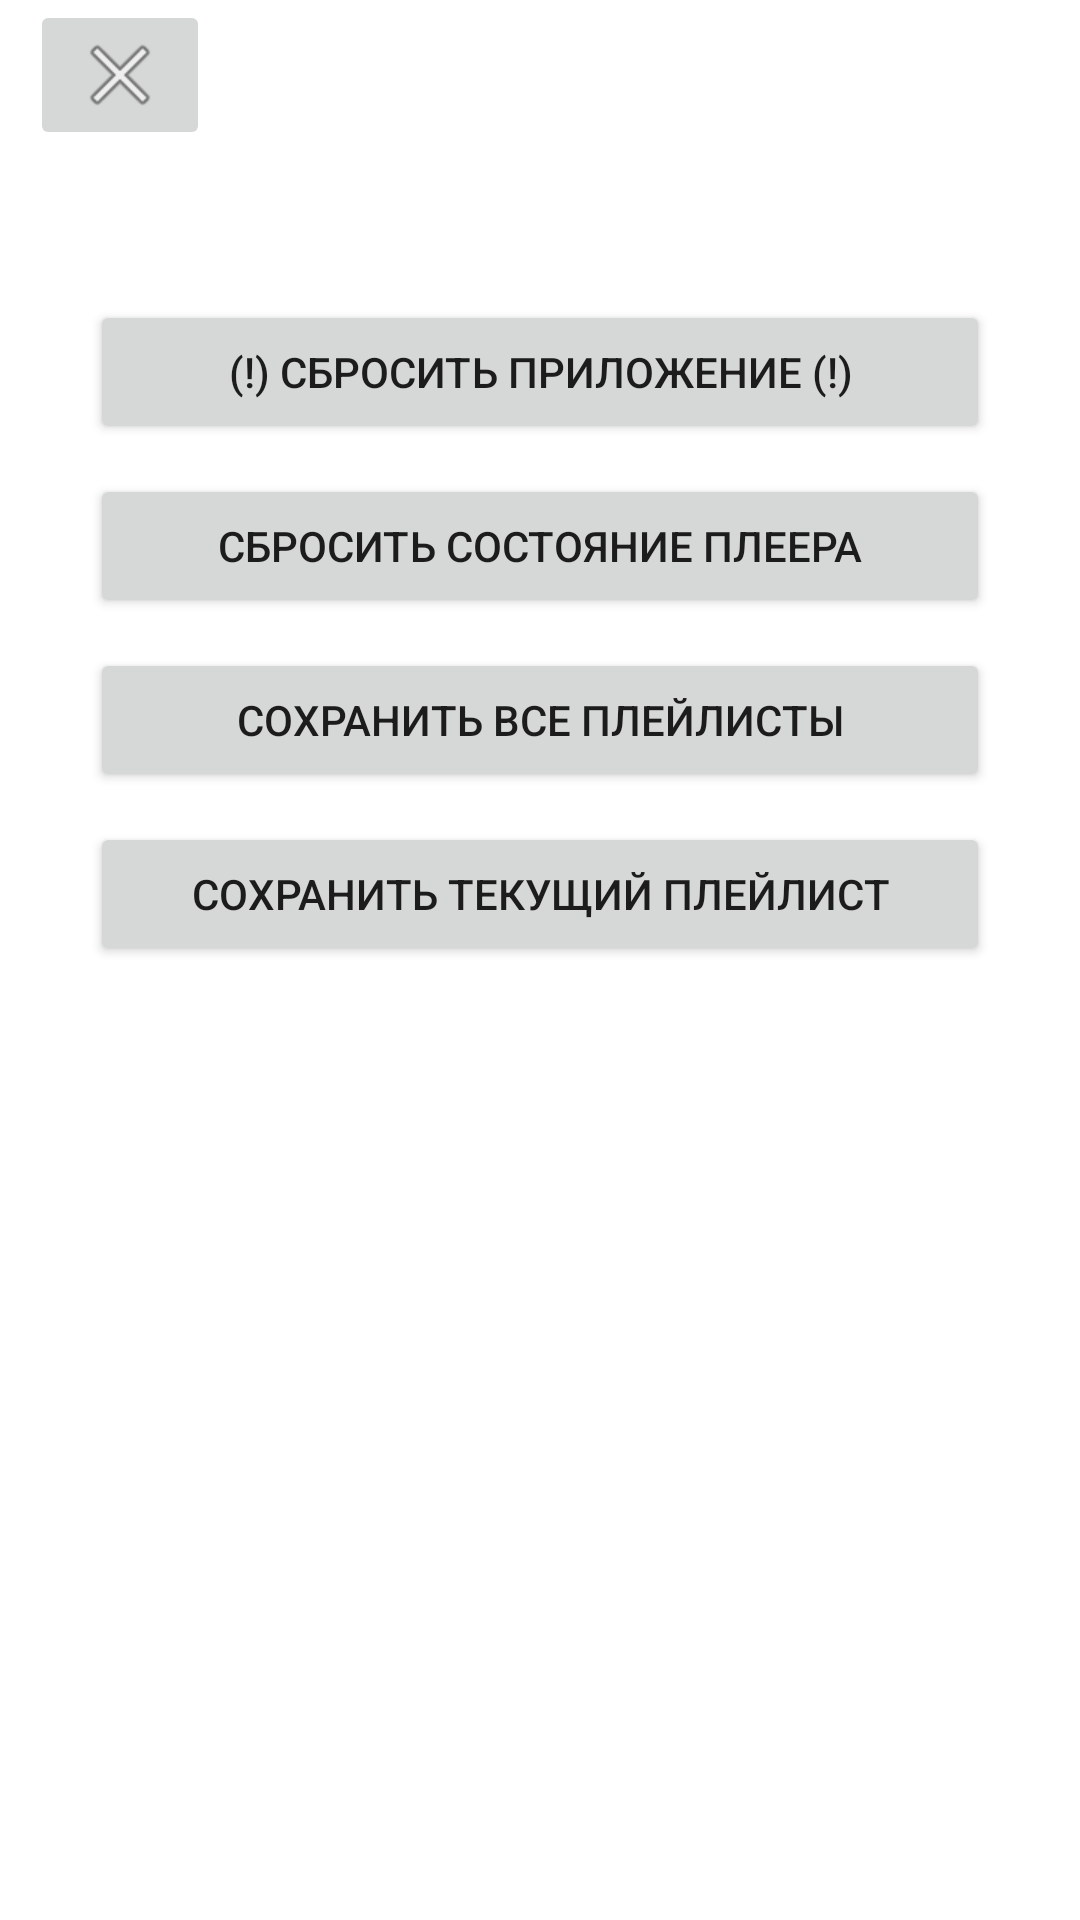

Icons on this 1080 x 1920 Android screen, each with its box as (x1, y1, x2, y2):
close clear cancel: (42, 18, 198, 132)
